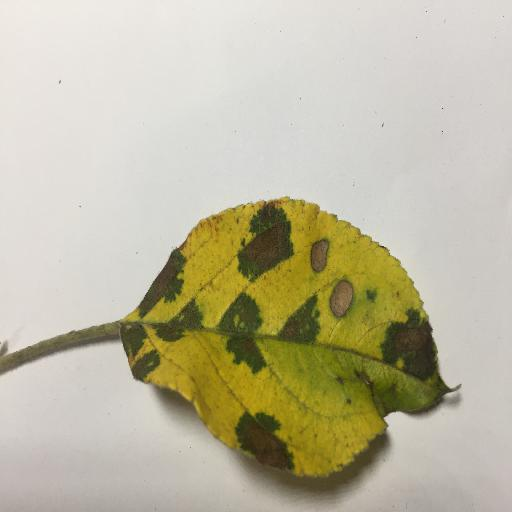Brown_Spot: (232, 419, 291, 471), (386, 314, 434, 376), (236, 228, 289, 274), (139, 258, 183, 310), (332, 279, 356, 316), (312, 237, 332, 272), (285, 318, 307, 341), (241, 341, 258, 354)
